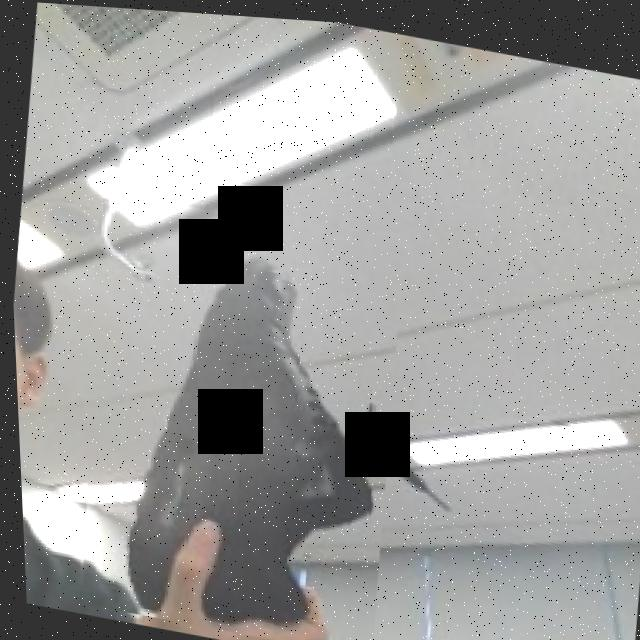shoe: (48, 181, 416, 640)
